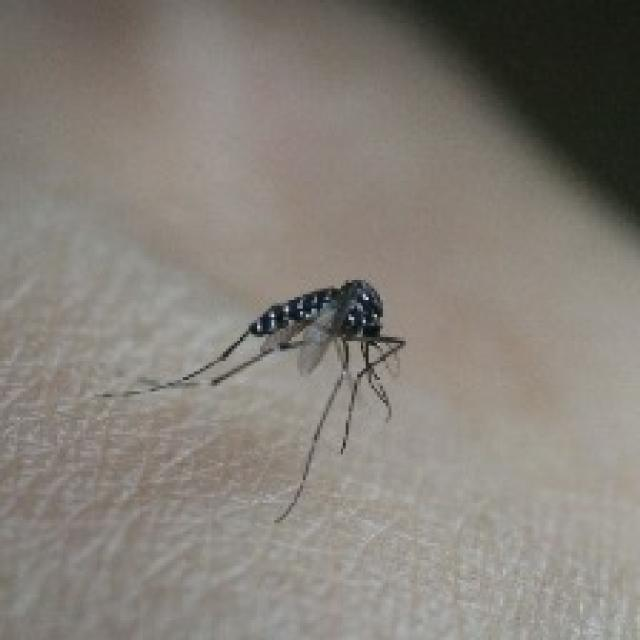aedes: (94, 274, 406, 523)
